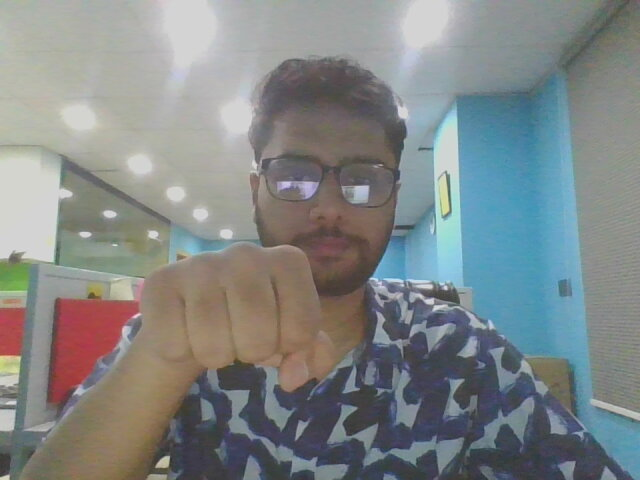yes: (135, 242, 333, 404)
